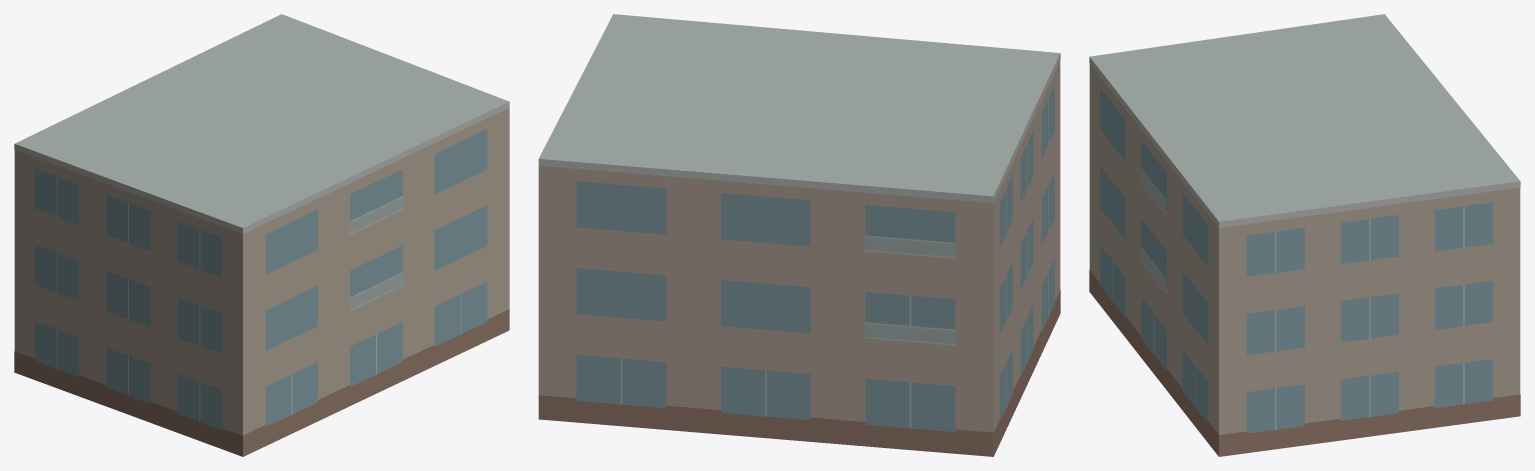
The model's file is survey-upis-32838790.glb.
The picture shows the model from 3 angles, left to right: view 1: azimuth 30°, elevation 25°; view 2: azimuth 150°, elevation 25°; view 3: azimuth 270°, elevation 25°; orthographic projection. The views are drawn at different scales.
Parts seen in each view (by area): view 1: survey-upis-32838790.tmp; view 2: survey-upis-32838790.tmp; view 3: survey-upis-32838790.tmp.
Boxes of the visible parts, bbox=[...] form: survey-upis-32838790.tmp: bbox=[14, 14, 509, 456]; survey-upis-32838790.tmp: bbox=[538, 14, 1060, 456]; survey-upis-32838790.tmp: bbox=[1089, 14, 1520, 456].
Bounding box in the file's own units: 17.36 × 9.15 × 15.21.
